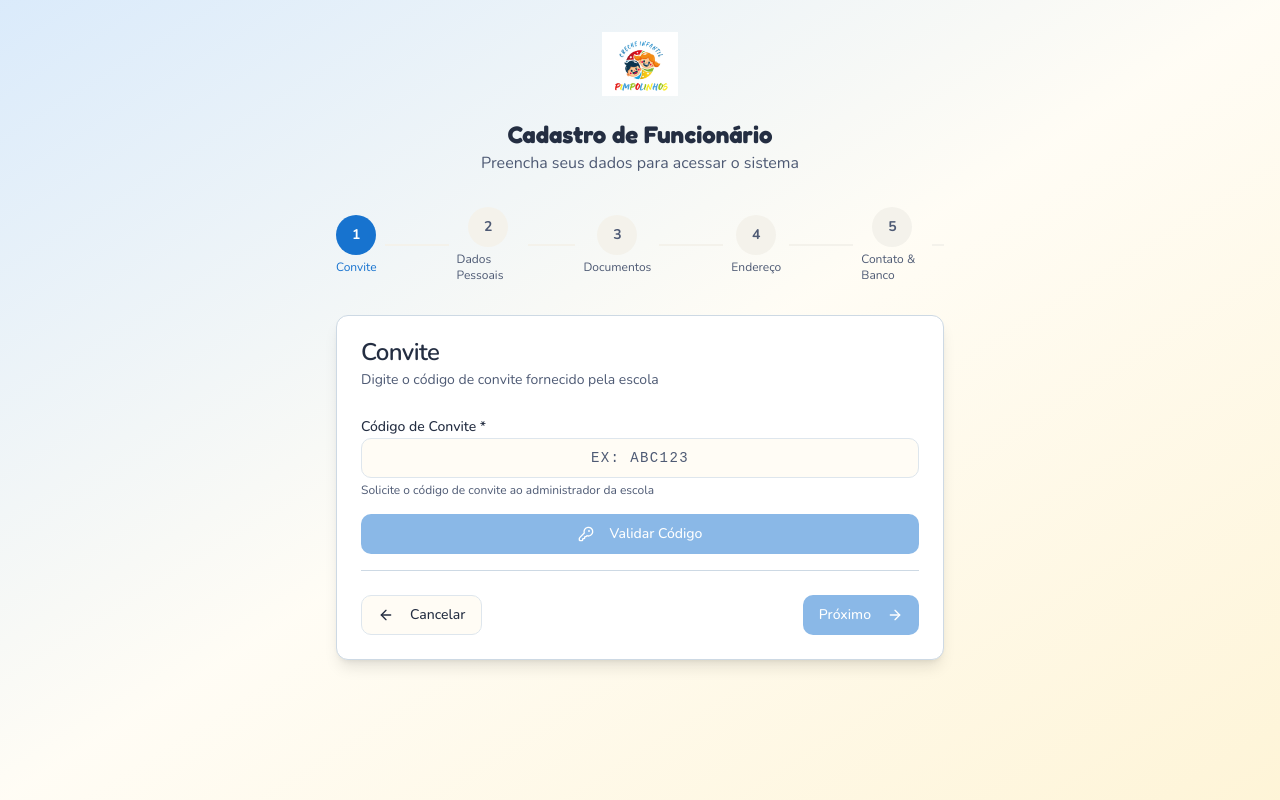
it: EmployeeRegistration › Step 1: Invite Code Validation › should enable validate button when invite code has content
The image size is (1280, 800).
Step 1. Type "ABC" into the field labelled "Código de Convite *" → (640, 458), box x1=361 y1=438 x2=919 y2=478
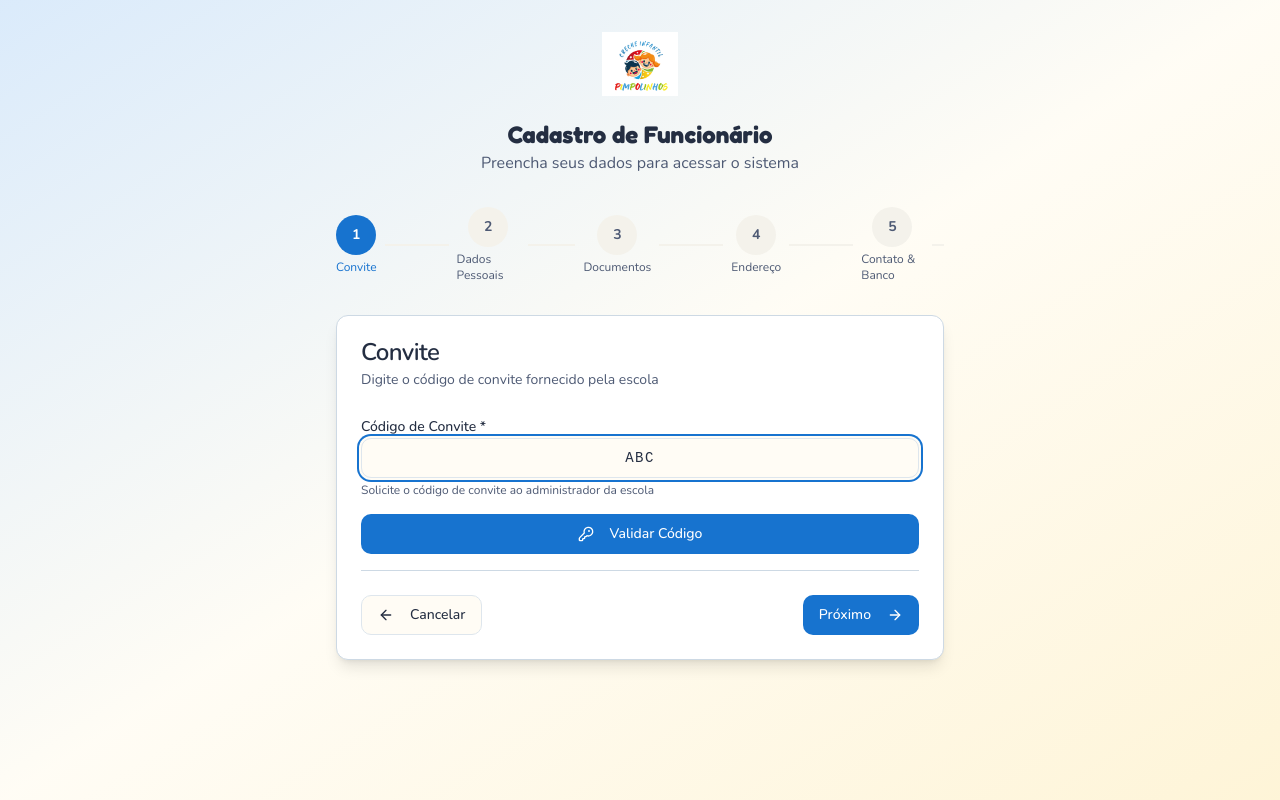
Result: the button "Validar Código" is enabled at x1=361 y1=514 x2=919 y2=554
